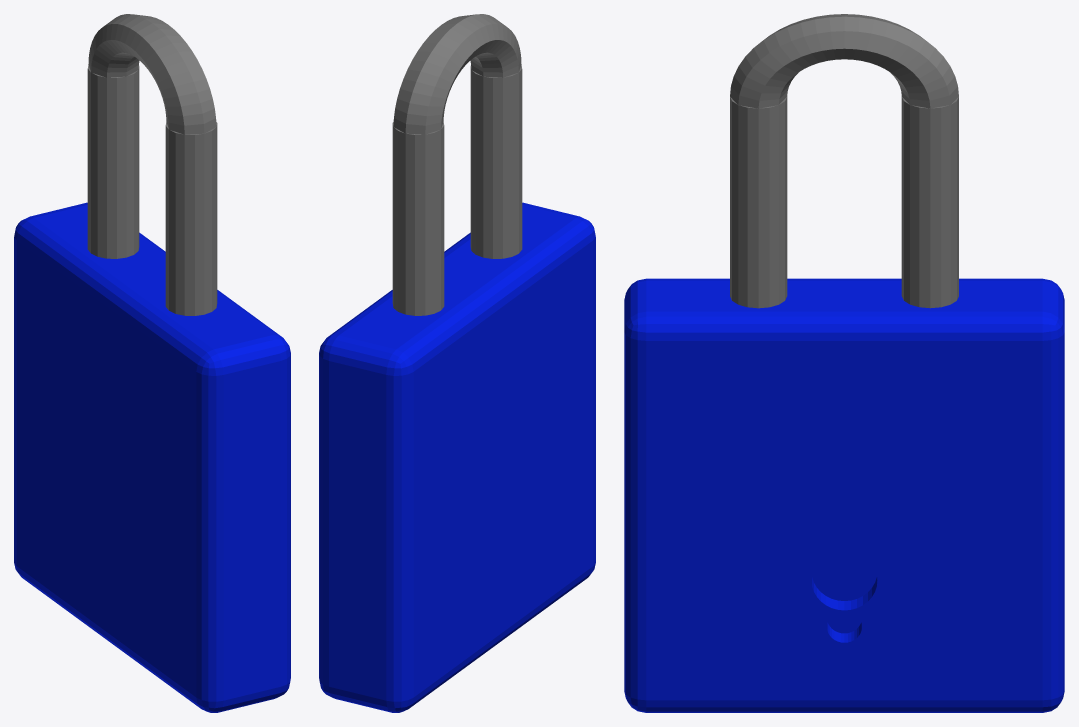
The model's file is blue lock mesh.fbx.
3 views of the same model, side by side, from view 1: azimuth 30°, elevation 25°; view 2: azimuth 150°, elevation 25°; view 3: azimuth 270°, elevation 25° (orthographic). The views are drawn at different scales.
Parts seen in each view (by area): view 1: Lock_Body, Shackle_Leg_Right, Shackle_Leg_Left, Shackle_Arch; view 2: Lock_Body, Shackle_Leg_Right, Shackle_Leg_Left, Shackle_Arch; view 3: Lock_Body, Shackle_Arch, Shackle_Leg_Left, Shackle_Leg_Right.
Part boxes in pixels (x1=…): Lock_Body: x1=14, y1=202, x2=290, y2=712; Shackle_Leg_Right: x1=87, y1=64, x2=139, y2=258; Shackle_Leg_Left: x1=165, y1=122, x2=217, y2=315; Shackle_Arch: x1=88, y1=14, x2=216, y2=134; Lock_Body: x1=319, y1=202, x2=595, y2=712; Shackle_Leg_Right: x1=392, y1=122, x2=444, y2=315; Shackle_Leg_Left: x1=470, y1=64, x2=522, y2=258; Shackle_Arch: x1=393, y1=14, x2=521, y2=134; Lock_Body: x1=624, y1=278, x2=1064, y2=712; Shackle_Arch: x1=730, y1=14, x2=958, y2=108; Shackle_Leg_Left: x1=730, y1=97, x2=787, y2=308; Shackle_Leg_Right: x1=901, y1=97, x2=958, y2=308.
Size of the model in its own units: 53.2 by 340 by 200.
